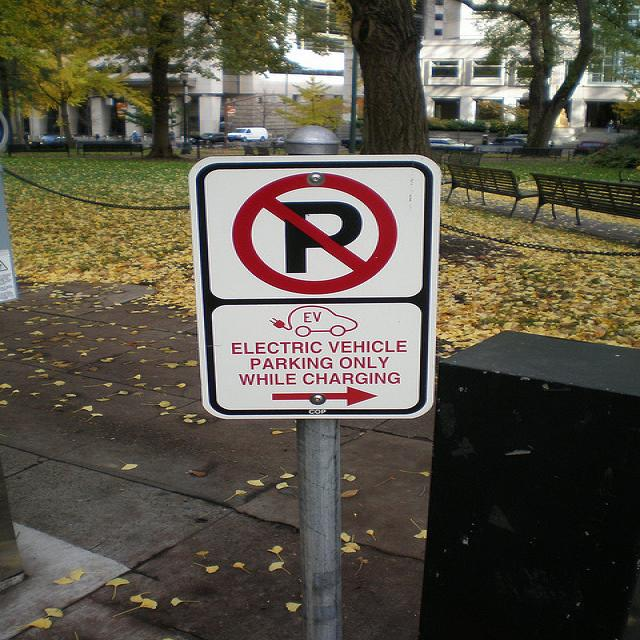Vehicle: (475, 138, 527, 153), (225, 127, 270, 142), (428, 137, 474, 151), (227, 128, 269, 142), (575, 140, 610, 156), (29, 135, 69, 146), (203, 132, 226, 144)
